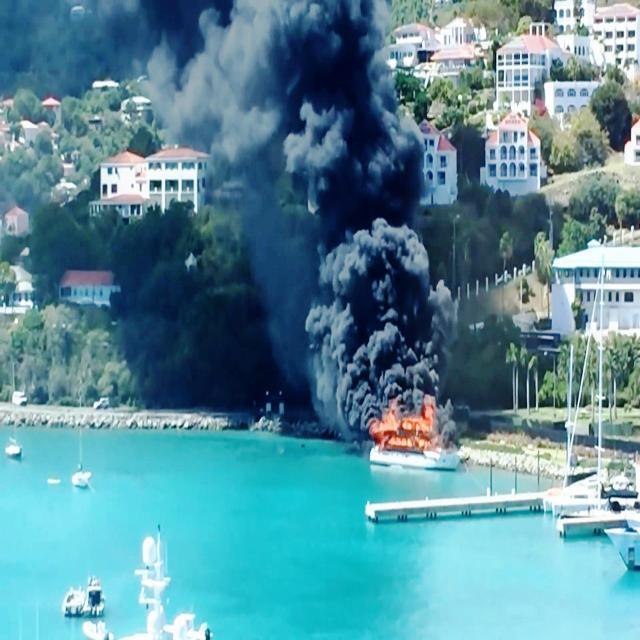Smoke: (320, 83, 448, 356)
